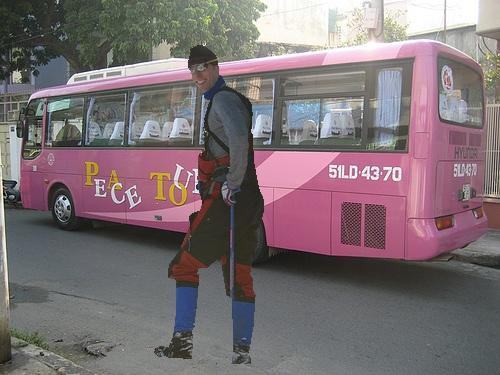tampered: (155, 46, 264, 364)
